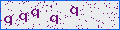q: (19, 13, 28, 23), (31, 9, 40, 18), (70, 7, 78, 17), (50, 15, 58, 25), (4, 16, 12, 25)
